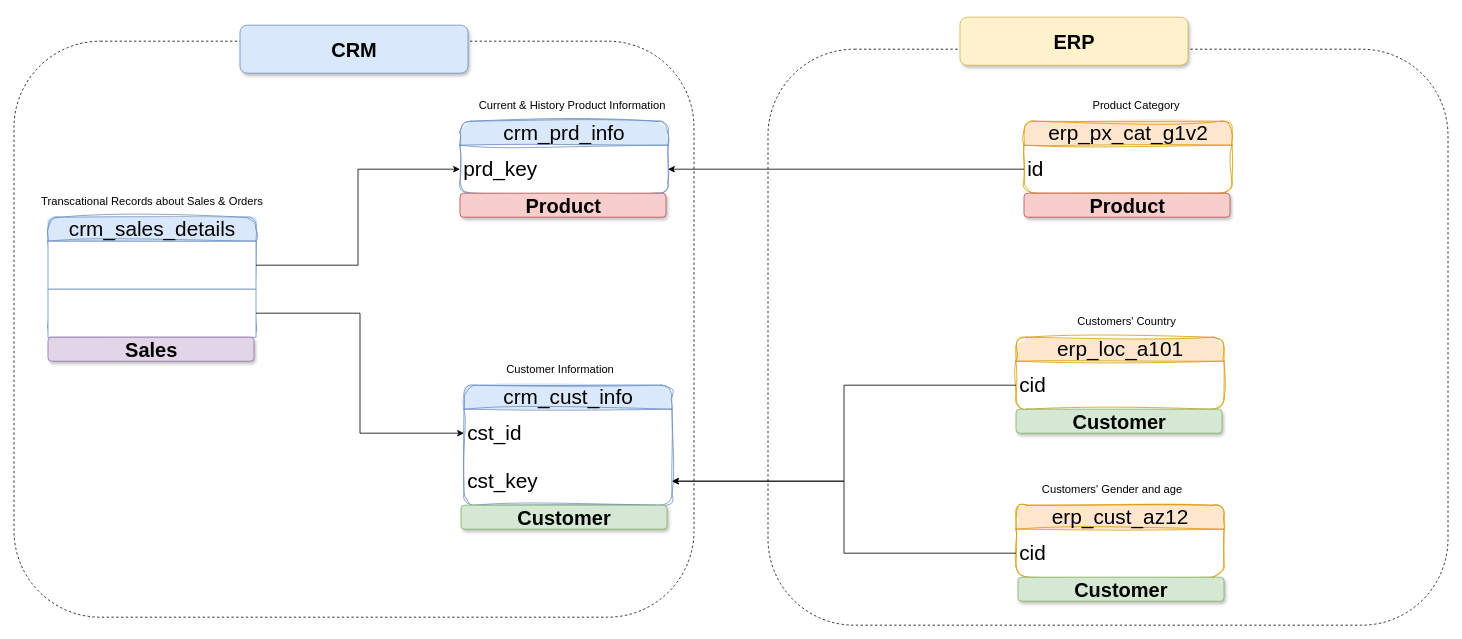
The diagram is 1462 pixels wide and 639 high, and some of its shapes have lost their labels. Each missing label, with the centre of its shape:
"sls_cust_id" belongs at [151,312].
"sls_prd_key" belongs at [151,264].
